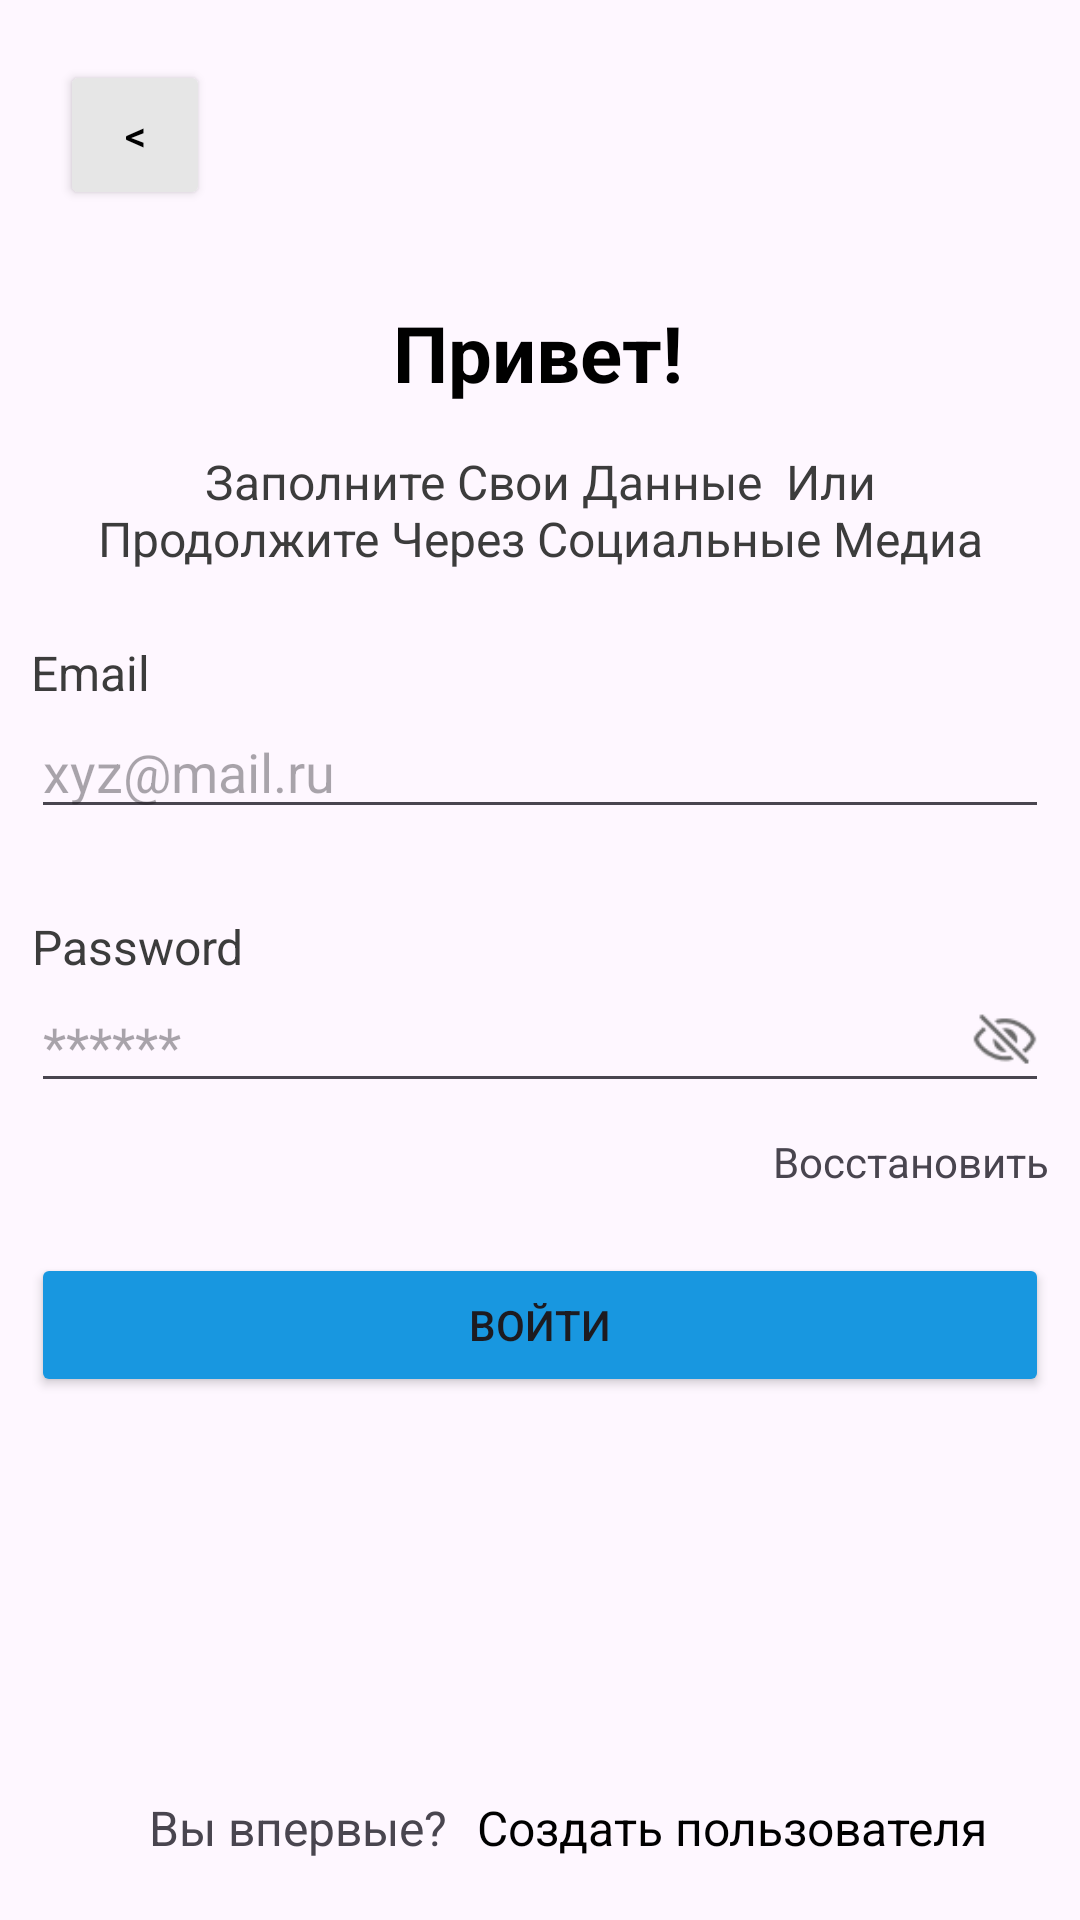

Point at icon controls on the screen. Image size 1080 x 1920, points as (x,y).
show password: (1004,1039)
